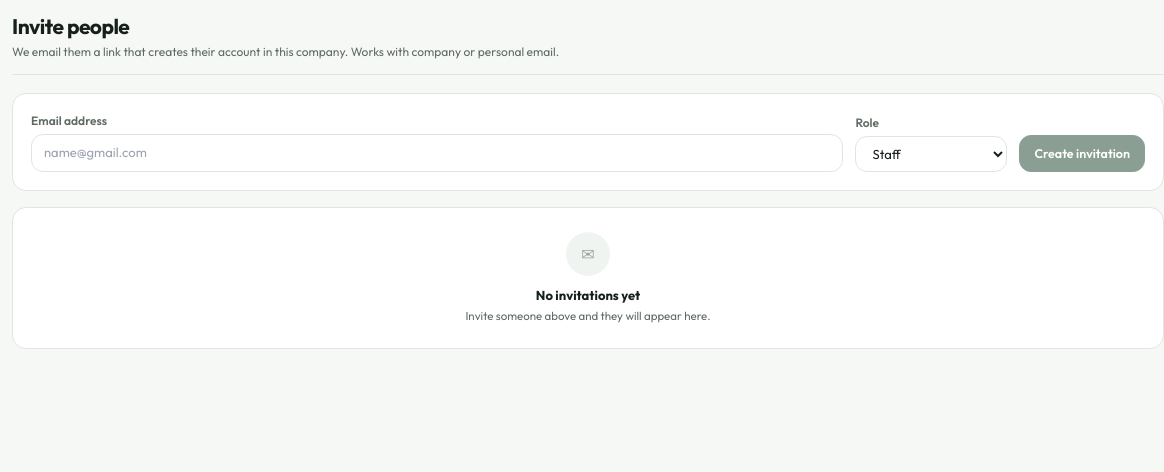
it: InvitePeople › creates an invitation and shows a link to send, containing the token
Check: the text "No invitations yet" is shown, box [536, 286, 640, 305]
In the field with placeholder "name@gmail.com": {"x": 437, "y": 153} [31, 134, 843, 172], type "New.Person@Gmail.com"
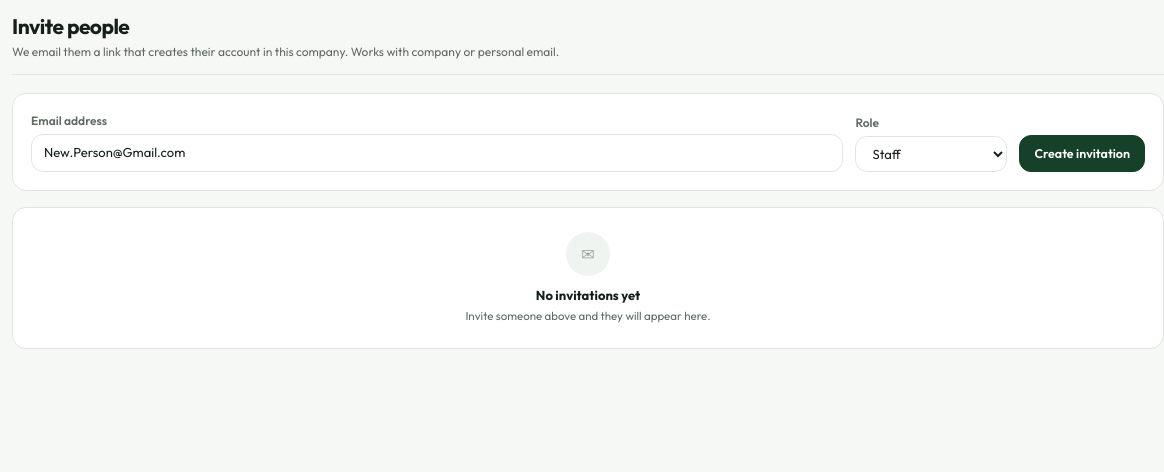
Select "Human Resources" in the dropdown: {"x": 931, "y": 154} [855, 136, 1007, 172]
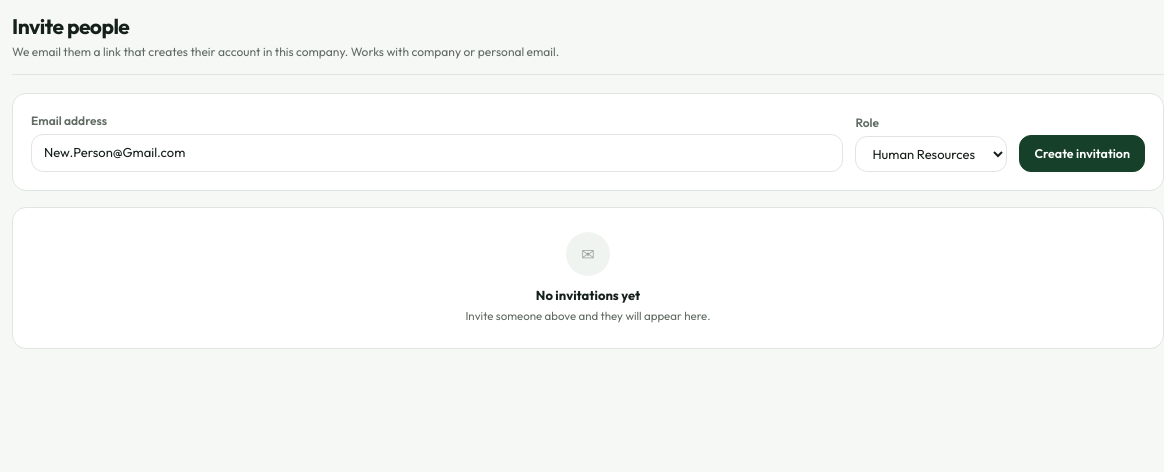
Click the button "Create invitation": {"x": 1082, "y": 153} [1019, 135, 1145, 172]
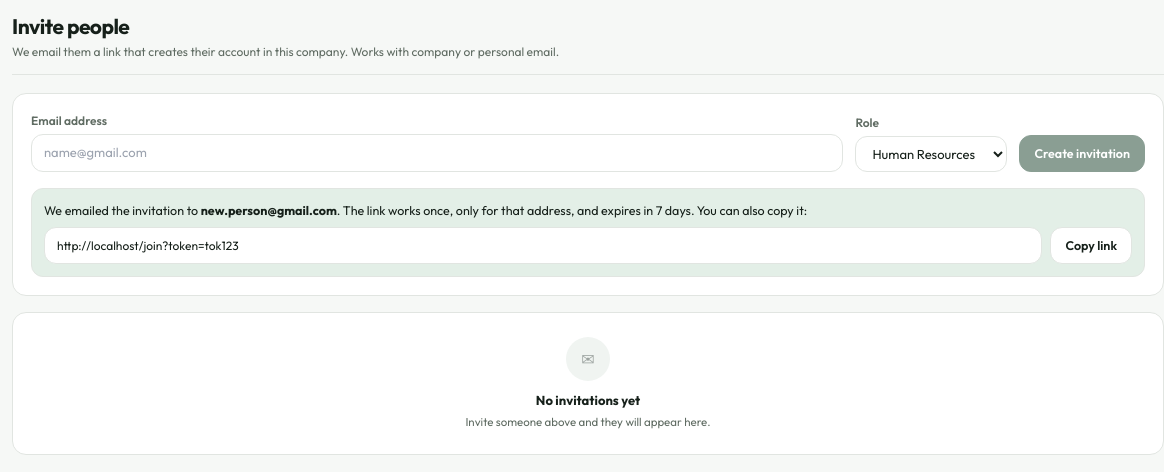
Check: the text "new.person@gmail.com" is shown, box [201, 202, 337, 218]
